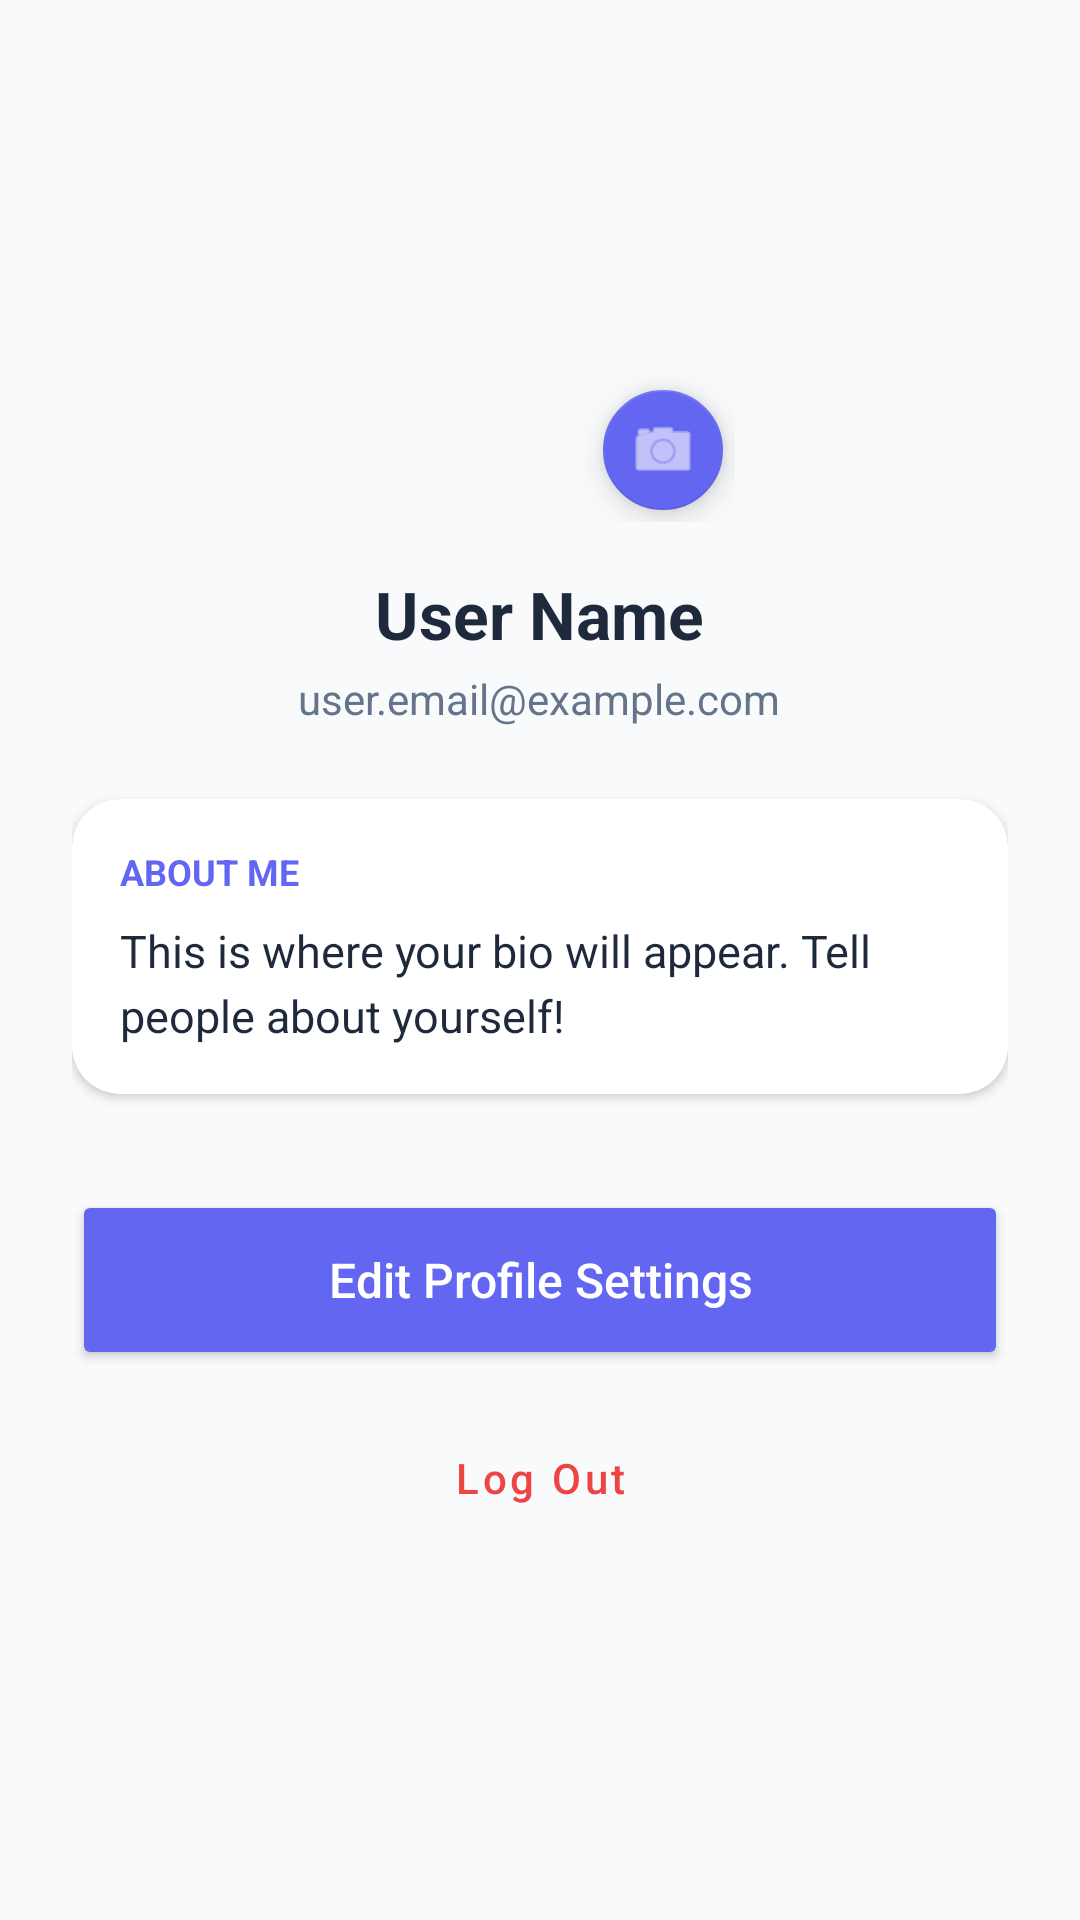

Icon bounding boxes for this 1080 x 1920 phone screenshot, format box(x1, y1, x2, y2):
camera: box(603, 390, 724, 513)
